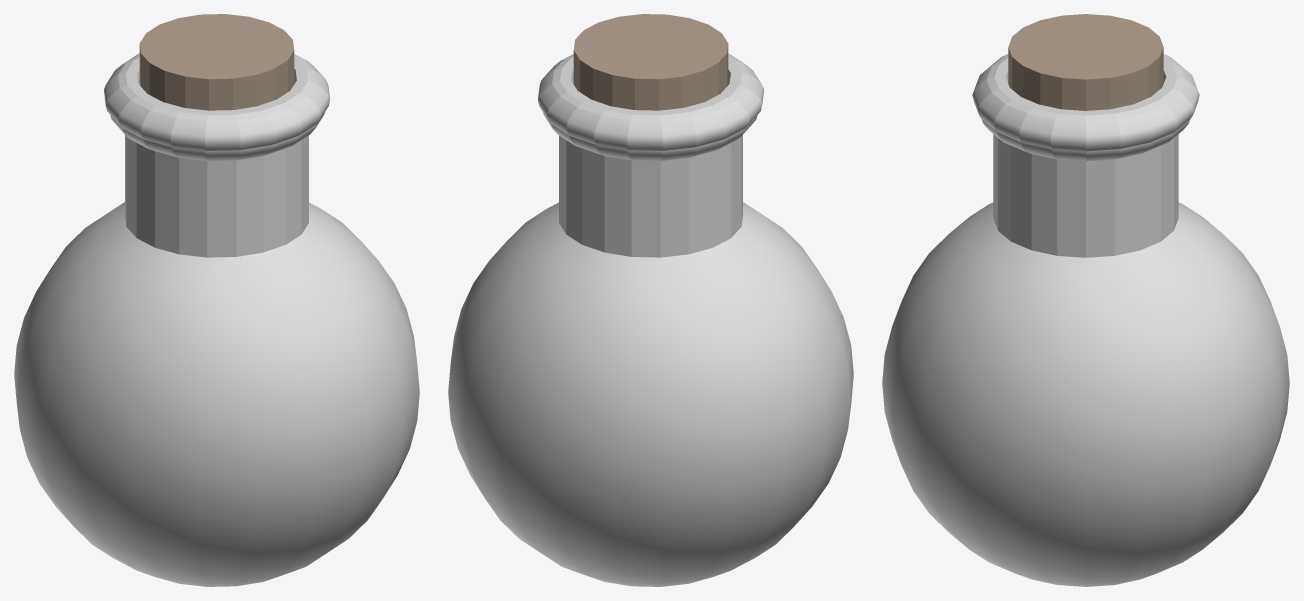
The model's file is Potion_6.fbx.
3 views of the same model, side by side, from view 1: azimuth 30°, elevation 25°; view 2: azimuth 150°, elevation 25°; view 3: azimuth 270°, elevation 25° (orthographic).
Visible parts, largest first — view 1: Potion6; view 2: Potion6; view 3: Potion6.
Boxes of the visible parts, left/top/right/bottom form: Potion6: left=14, top=14, right=419, bottom=586; Potion6: left=448, top=14, right=853, bottom=586; Potion6: left=882, top=14, right=1289, bottom=586.
Bounding box in the file's own units: 57.14 × 79.22 × 57.14.
